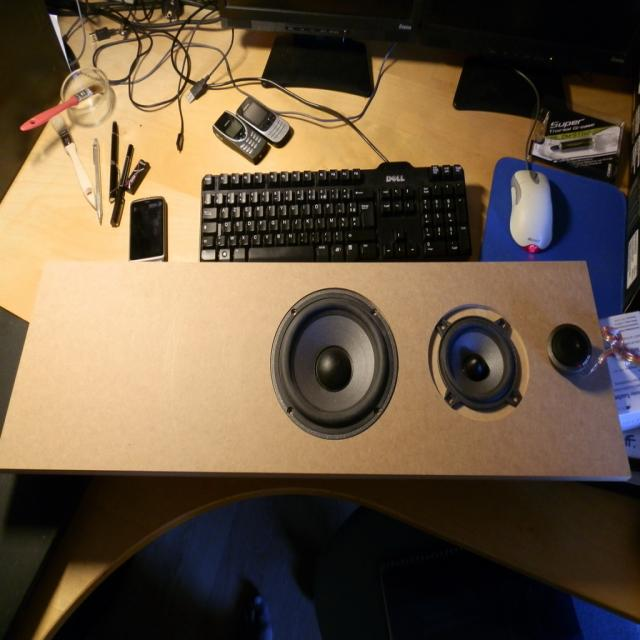Computer-mouse: (508, 167, 554, 254)
